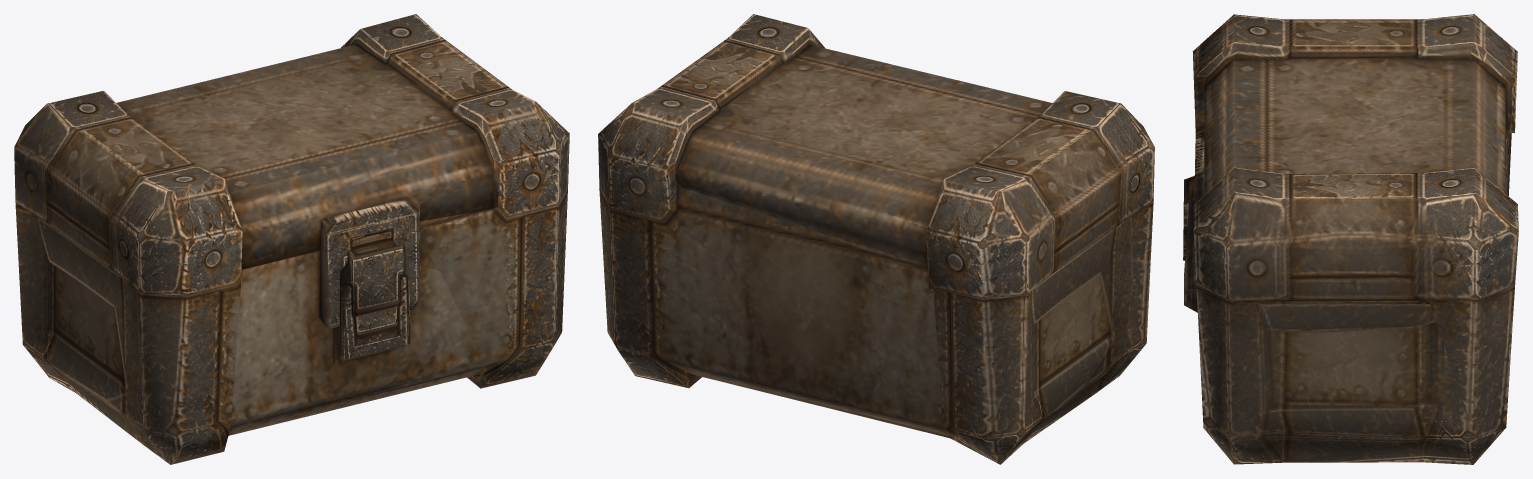
Rendered from Chest.glb.
3 renders of one model, left to right at view 1: azimuth 30°, elevation 25°; view 2: azimuth 150°, elevation 25°; view 3: azimuth 270°, elevation 25°, orthographic.
Bounding box in the file's own units: 2 × 1.21 × 1.36.
1 material, 1 textured.
